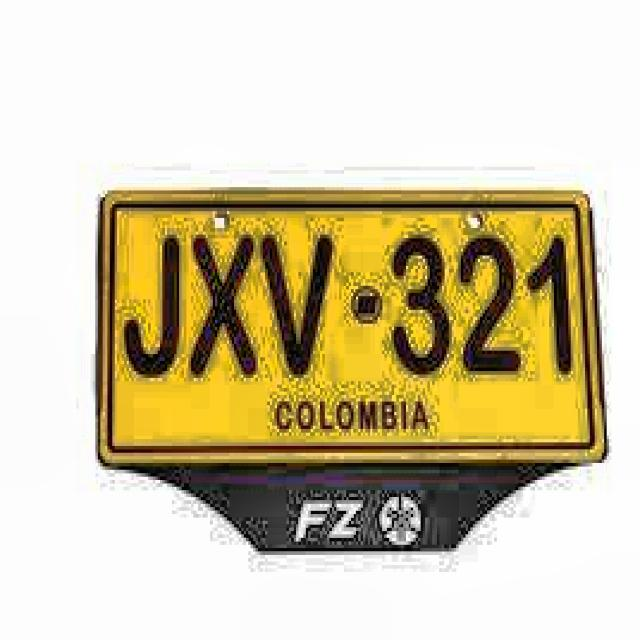plate: (102, 194, 601, 461)
